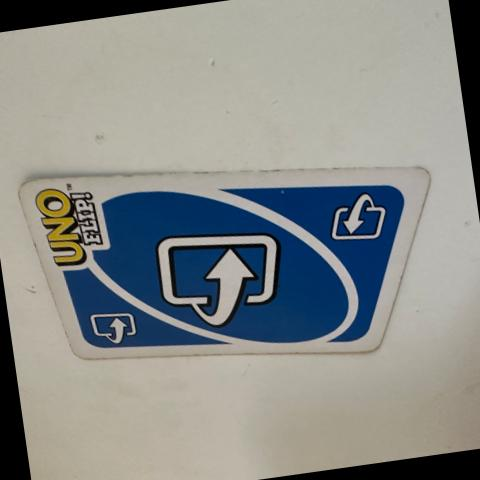lblueflip-20: (72, 294, 149, 356)
